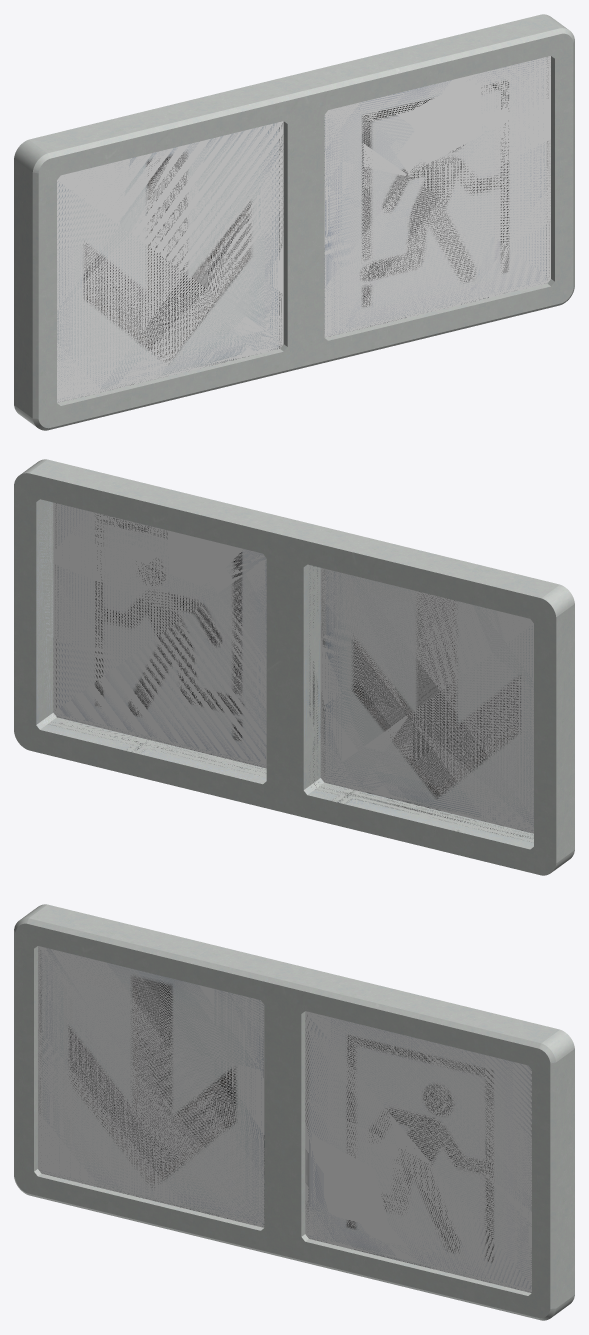
3 renders of one model, top to bottom at view 1: azimuth 30°, elevation 25°; view 2: azimuth 150°, elevation 25°; view 3: azimuth 330°, elevation 25°, orthographic.
Visible parts, largest first — view 1: SketchUp (×5); view 2: SketchUp (×7); view 3: SketchUp (×5).
Boxes of the visible parts, x1,y1,x2,y2 form: SketchUp (×5): (14, 14, 574, 430); SketchUp (×7): (14, 459, 574, 875); SketchUp (×5): (14, 904, 574, 1320).
Bounding box in the file's own units: 73.3 × 4.9 × 35.8.
4 materials, 3 textured.
